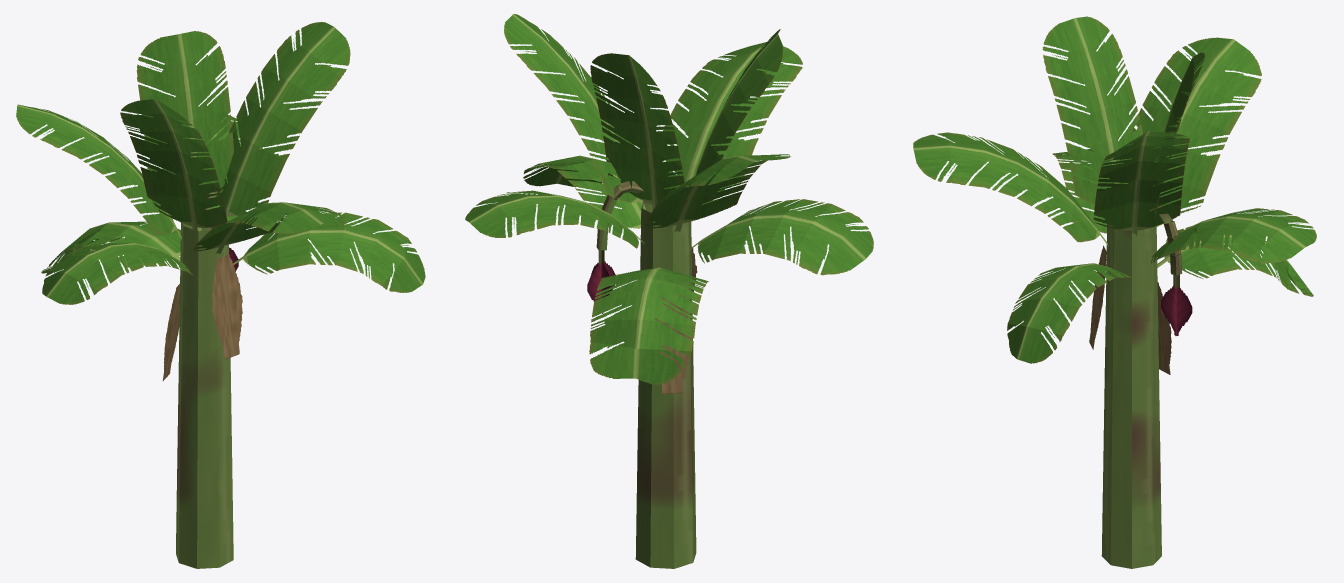
Rendered from banana_4.obj.
3 renders of one model, left to right at view 1: azimuth 30°, elevation 25°; view 2: azimuth 150°, elevation 25°; view 3: azimuth 270°, elevation 25°, orthographic. The views are drawn at different scales.
Parts seen in each view (by area): view 1: banana; view 2: banana; view 3: banana.
Part boxes in pixels (<box>): banana: <box>16,22,425,568</box>; banana: <box>465,14,873,568</box>; banana: <box>913,16,1316,568</box>.
Size of the model in its own units: 2.37 by 3.13 by 2.35.
